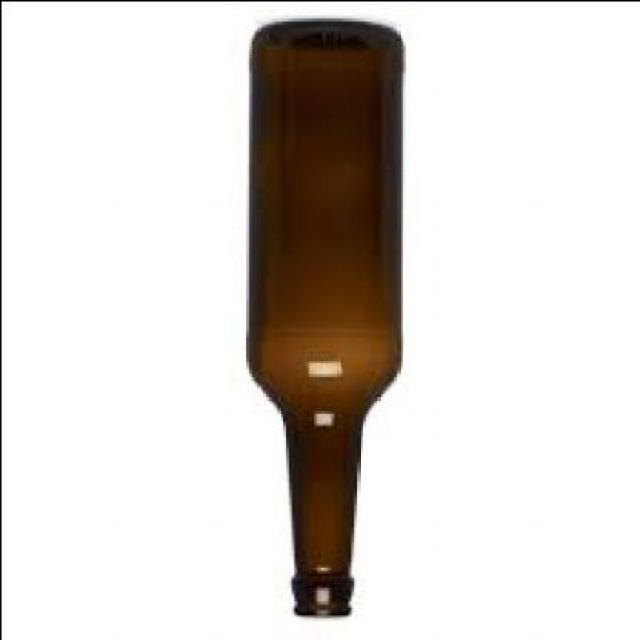GLASS: (245, 23, 404, 620)
